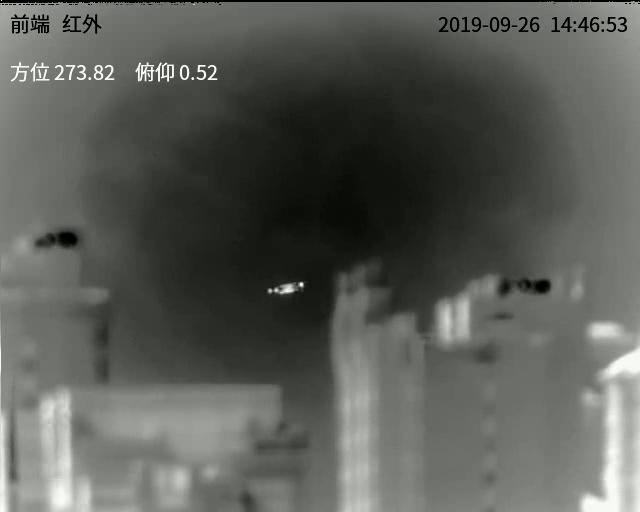DRONE: (265, 280, 304, 295)
